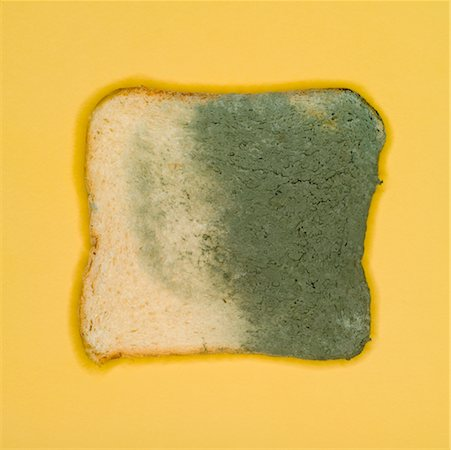slice of bread: (80, 85, 386, 365)
